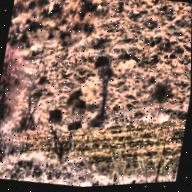boar: (45, 102, 66, 131), (64, 91, 88, 112), (71, 91, 90, 115)
